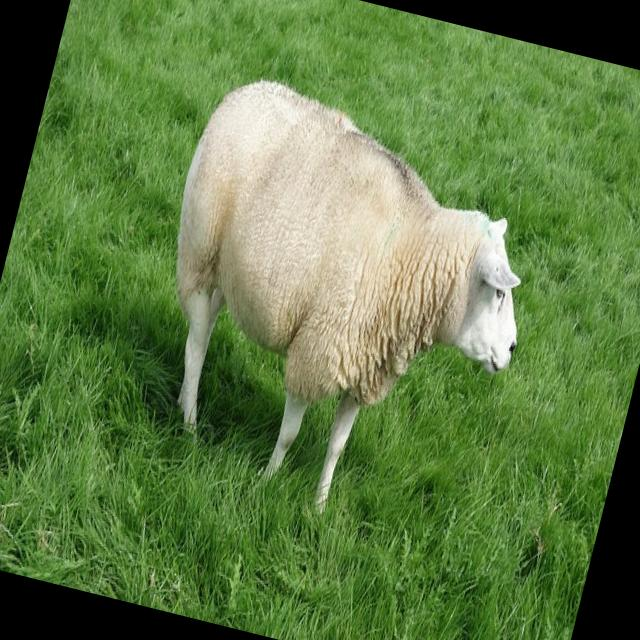animal: (113, 62, 564, 550)
